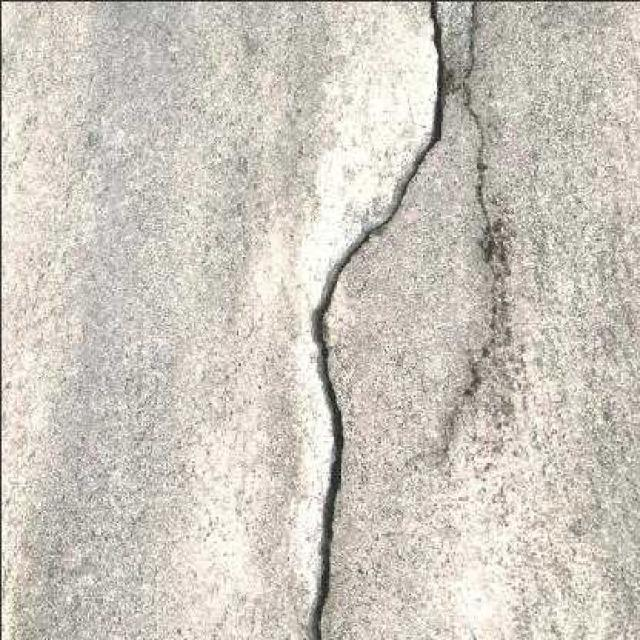D00: (306, 0, 447, 640), (416, 0, 511, 458)
